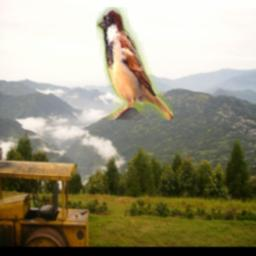Sparrow: (97, 7, 174, 120)
